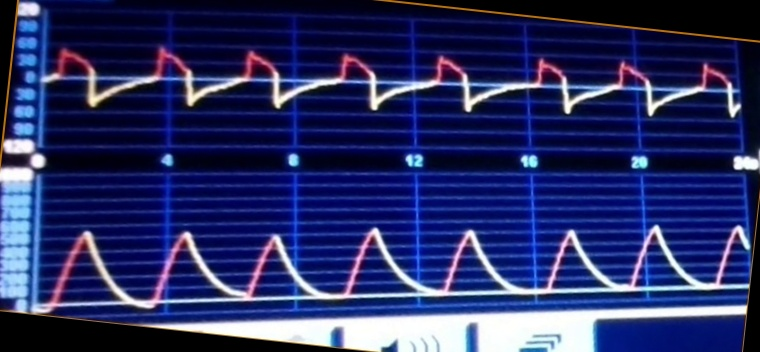Normal Flow: (45, 43, 741, 142)
Normal Volume: (41, 214, 746, 310)
